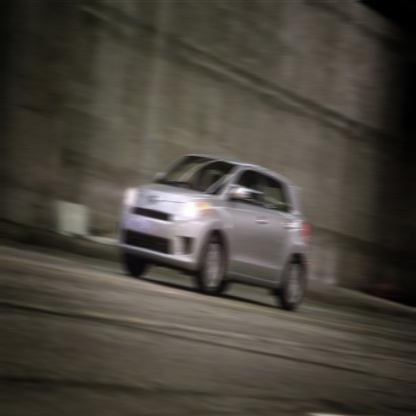Vehicle: (114, 151, 310, 312)
